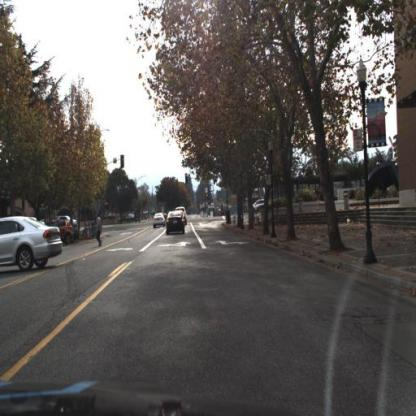car: (1, 207, 69, 272), (42, 218, 75, 250), (165, 209, 187, 237), (52, 223, 76, 244), (151, 211, 168, 232)
pedestrian: (91, 208, 109, 253)
trafficLight-Red: (184, 172, 190, 188), (185, 175, 189, 188)
